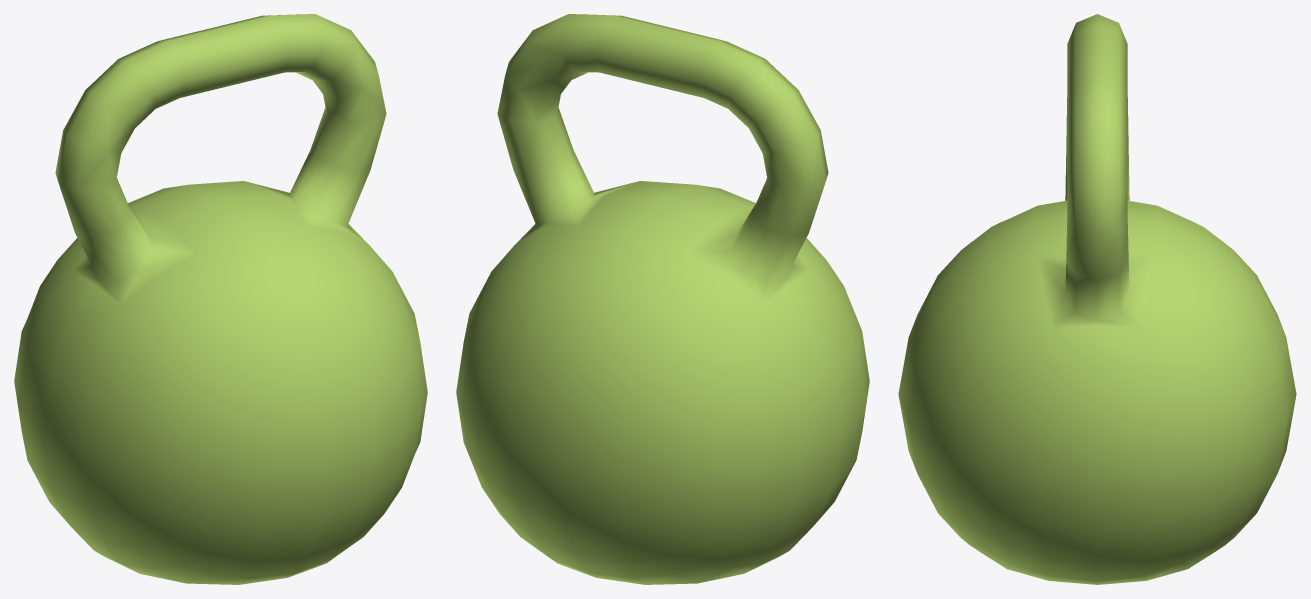
File: kettlebell.glb
The picture shows the model from 3 angles, left to right: view 1: azimuth 30°, elevation 25°; view 2: azimuth 150°, elevation 25°; view 3: azimuth 270°, elevation 25°; orthographic projection. The views are drawn at different scales.
Parts seen in each view (by area): view 1: kettlebell-001; view 2: kettlebell-001; view 3: kettlebell-001.
Part boxes in pixels (box(x1,y1,x2,y2)): kettlebell-001: box(14, 14, 427, 584); kettlebell-001: box(456, 14, 869, 584); kettlebell-001: box(898, 14, 1296, 584).
Bounding box in the file's own units: 0.21 × 0.28 × 0.21.
